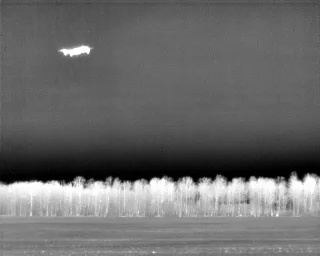DRONE: (54, 39, 96, 62)
